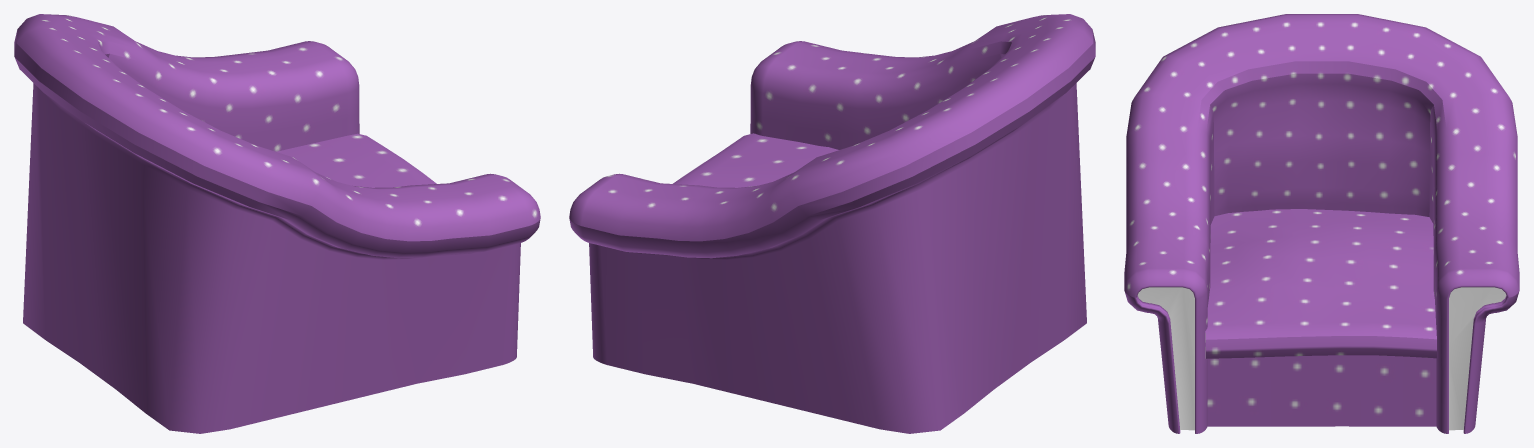
Rendered from sofa.fbx.
3 renders of one model, left to right at view 1: azimuth 30°, elevation 25°; view 2: azimuth 150°, elevation 25°; view 3: azimuth 270°, elevation 25°, orthographic. The views are drawn at different scales.
Visible parts, largest first — view 1: sofa:polySurface1; view 2: sofa:polySurface1; view 3: sofa:polySurface1.
Boxes of the visible parts, x1=… form: sofa:polySurface1: x1=14, y1=14, x2=540, y2=433; sofa:polySurface1: x1=569, y1=14, x2=1095, y2=433; sofa:polySurface1: x1=1124, y1=14, x2=1519, y2=433.
Size of the model in its own units: 12.3 by 9.84 by 12.96.
